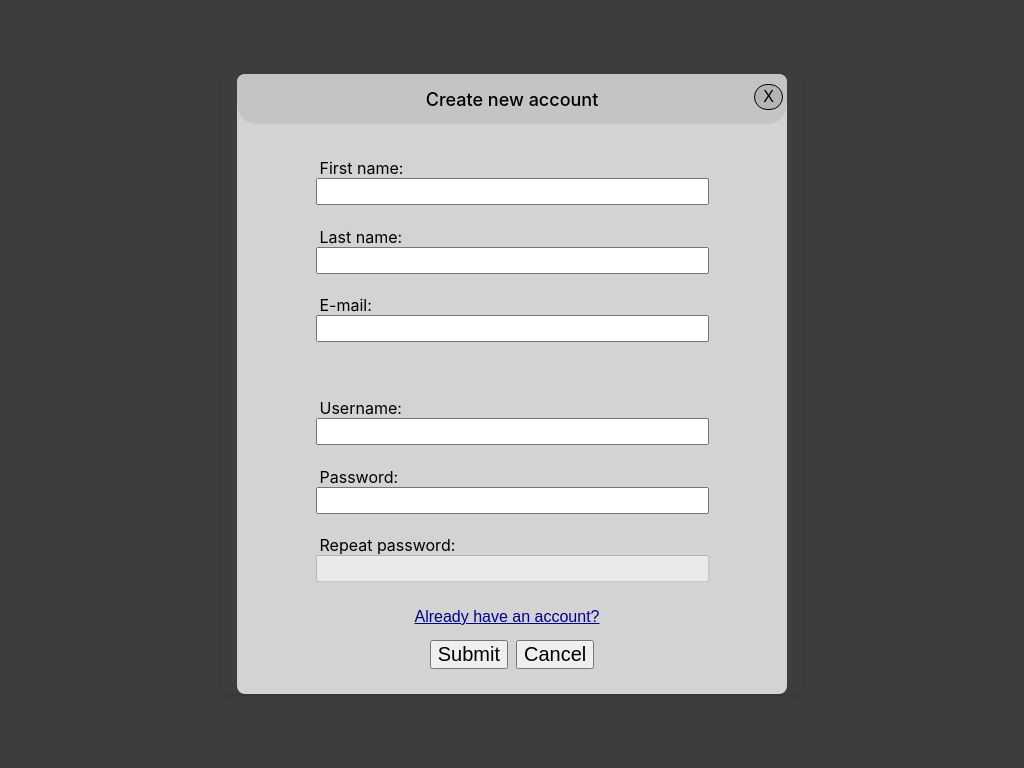
Scenario: RegistrationModal › input field tests › error handling › renders error messages when trying to submit with not validly filled input fields
Click the button "Submit" at (469, 654), box [430, 640, 508, 669]
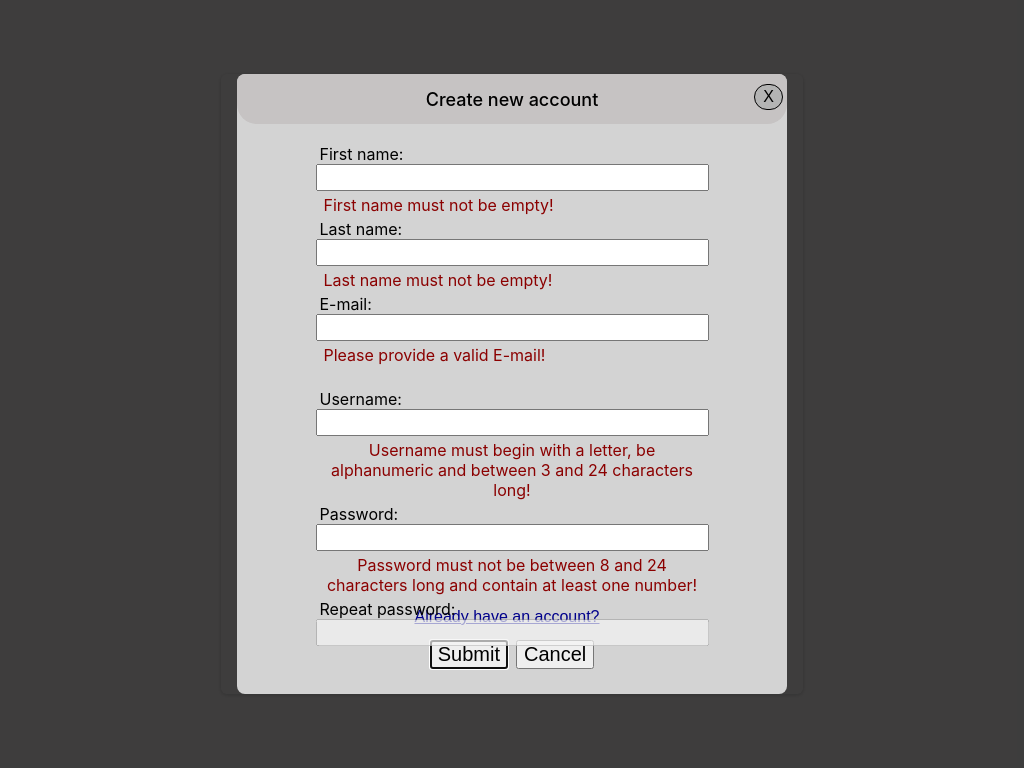
Expected: the text "Username must begin with a letter, be alphanumeric and between 3 and 24 characters long!" is shown, [331, 440, 693, 500]
Expected: the text "Please provide a valid E-mail!" is shown, [324, 345, 545, 365]
Expected: the text "First name must not be empty!" is shown, [324, 195, 554, 215]
